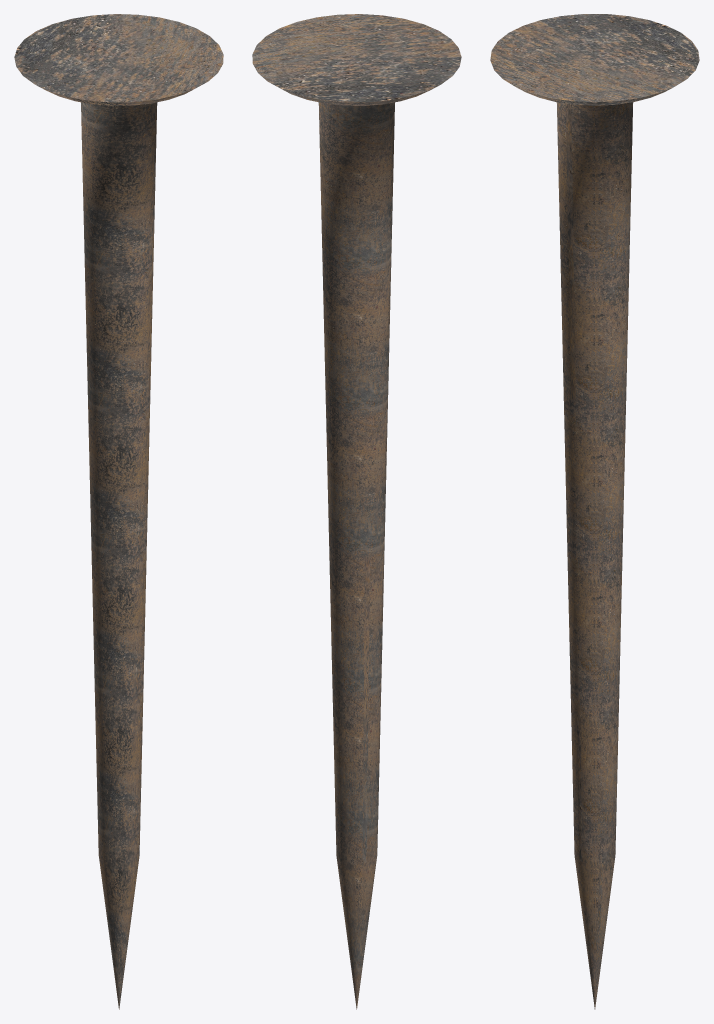
Rendered from nail.fbx.
3 views of the same model, side by side, from view 1: azimuth 30°, elevation 25°; view 2: azimuth 150°, elevation 25°; view 3: azimuth 270°, elevation 25° (orthographic).
Parts seen in each view (by area): view 1: Nail; view 2: Nail; view 3: Nail.
Part boxes in pixels (bbox=[...]): Nail: bbox=[14, 14, 223, 1009]; Nail: bbox=[252, 14, 461, 1009]; Nail: bbox=[490, 14, 699, 1009].
Size of the model in its own units: 1.83 by 9.22 by 1.84.
Materials: 1 (1 with a texture image).
